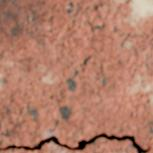brick: (0, 0, 152, 147), (0, 139, 135, 152)
crack: (0, 132, 152, 152)
